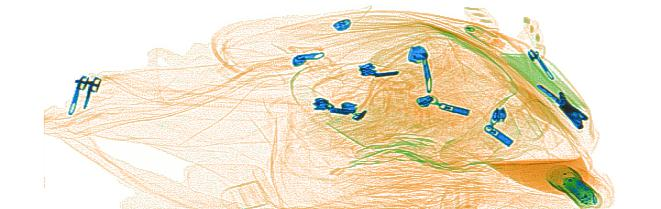battery: (560, 173, 599, 203)
